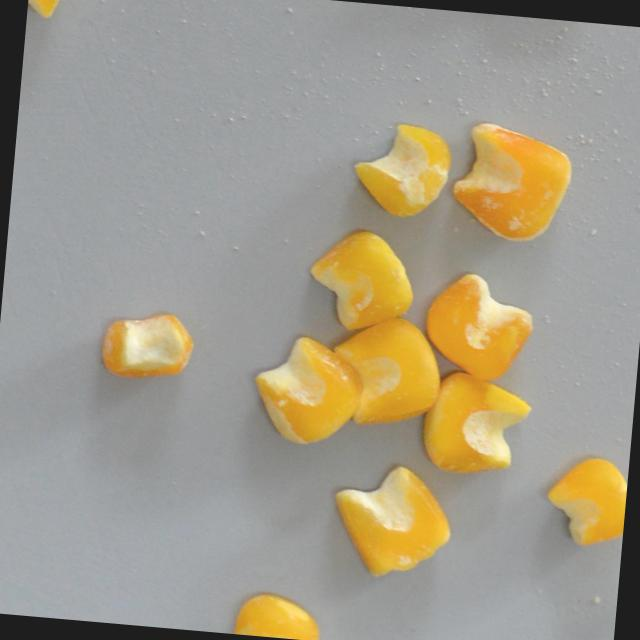no_desgerminado: (537, 449, 629, 551)
pelicula: (444, 113, 576, 253), (321, 455, 457, 587), (245, 327, 369, 451), (415, 264, 541, 385), (300, 222, 422, 338), (346, 116, 456, 225), (95, 307, 199, 384), (231, 590, 323, 640), (24, 0, 66, 36)
